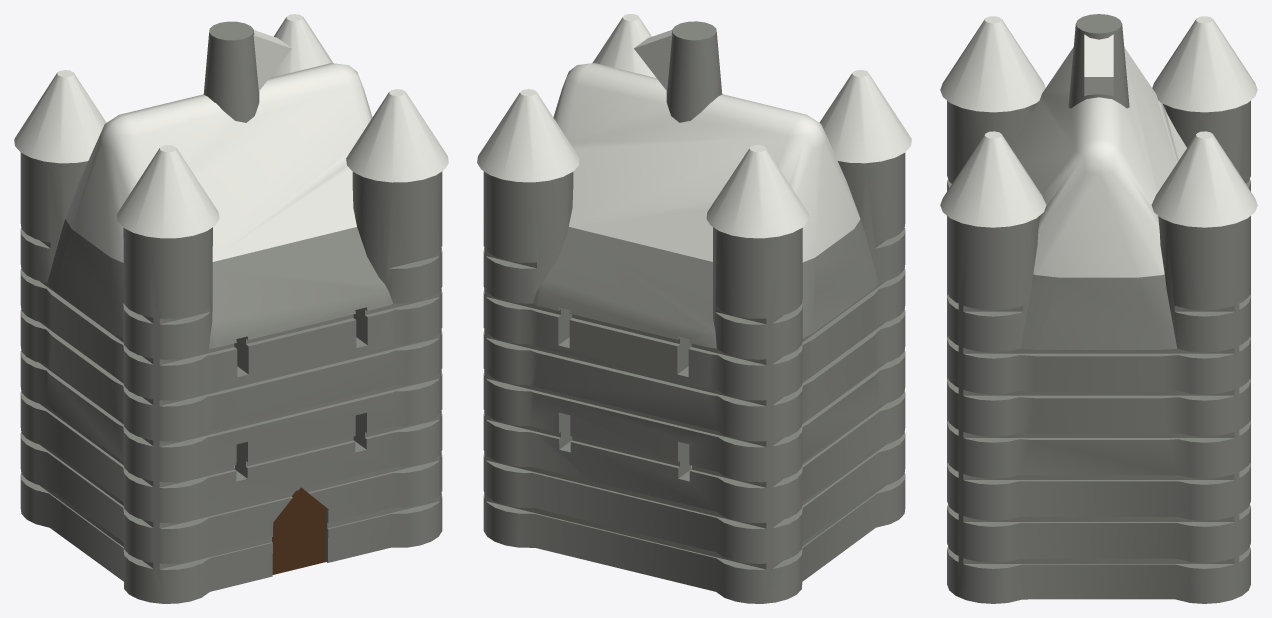
The model's file is festung_weiss.glb.
3 renders of one model, left to right at view 1: azimuth 30°, elevation 25°; view 2: azimuth 150°, elevation 25°; view 3: azimuth 270°, elevation 25°, orthographic. The views are drawn at different scales.
Parts seen in each view (by area): view 1: festung_weiss; view 2: festung_weiss; view 3: festung_weiss.
Boxes of the visible parts, <box> form: festung_weiss: <box>14,14,448,603</box>; festung_weiss: <box>477,14,911,603</box>; festung_weiss: <box>940,14,1257,603</box>.
Size of the model in its own units: 19.6 by 28.7 by 16.43.
